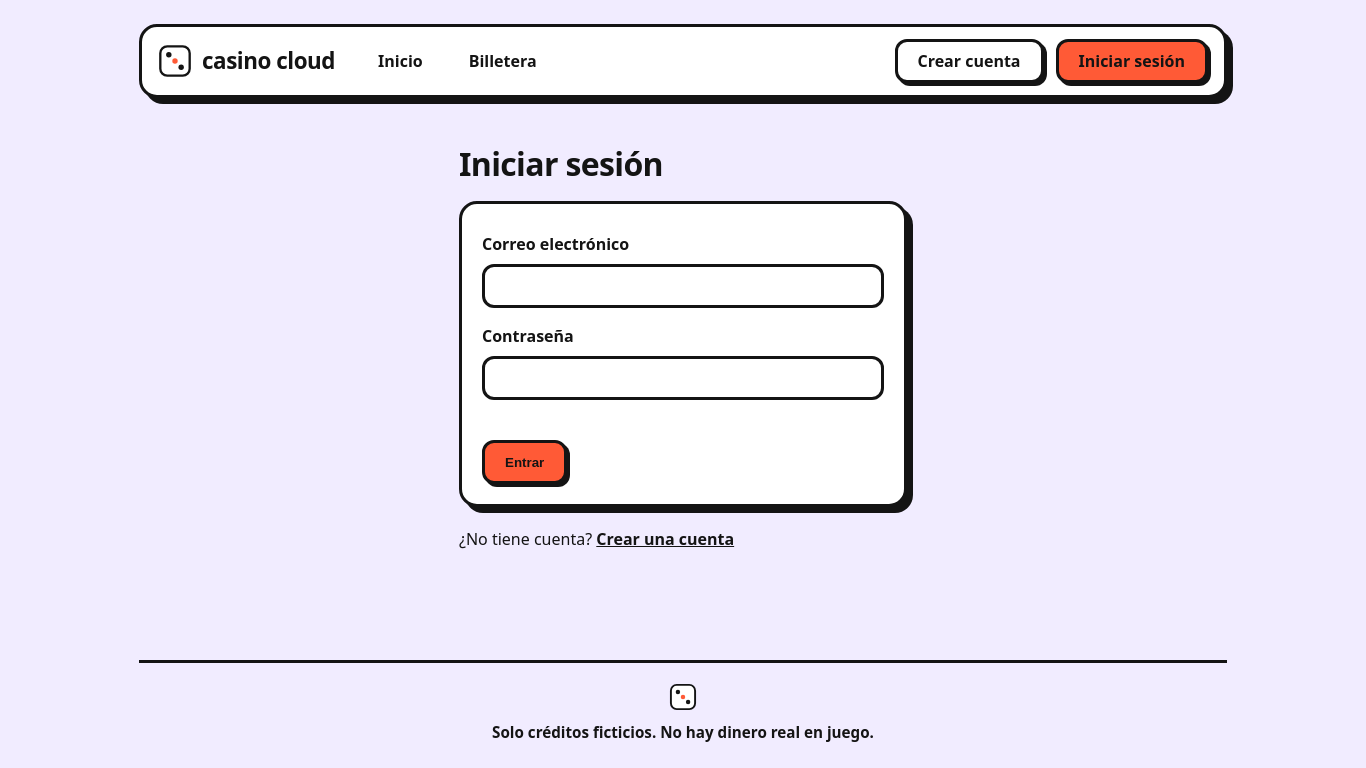
Test case: LoginPage › shows a connection message on a network failure
Type "ana@casino.test" into the field labelled "Correo electrónico" at (683,286), box [482,264,884,308]
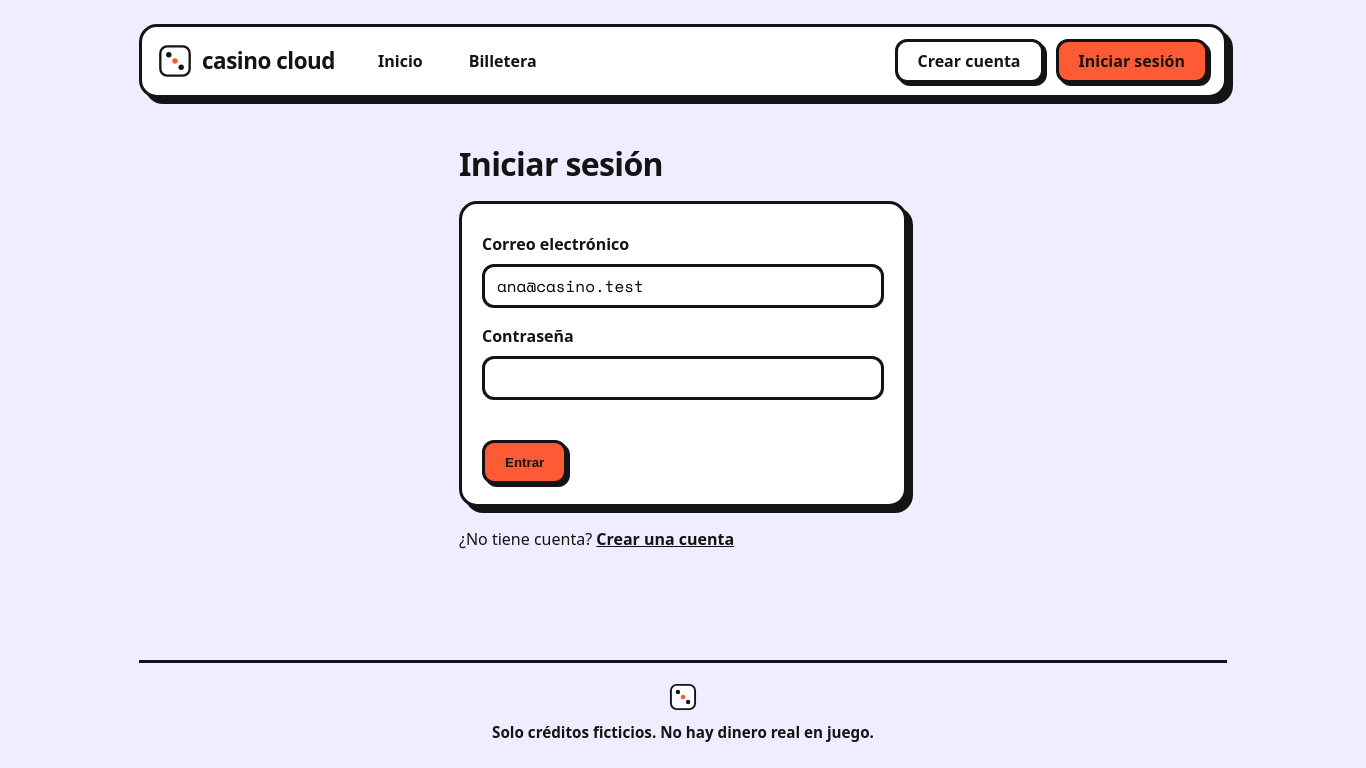
Type "password123" into the password field labelled "Contraseña" at (683,378), box [482,356,884,400]
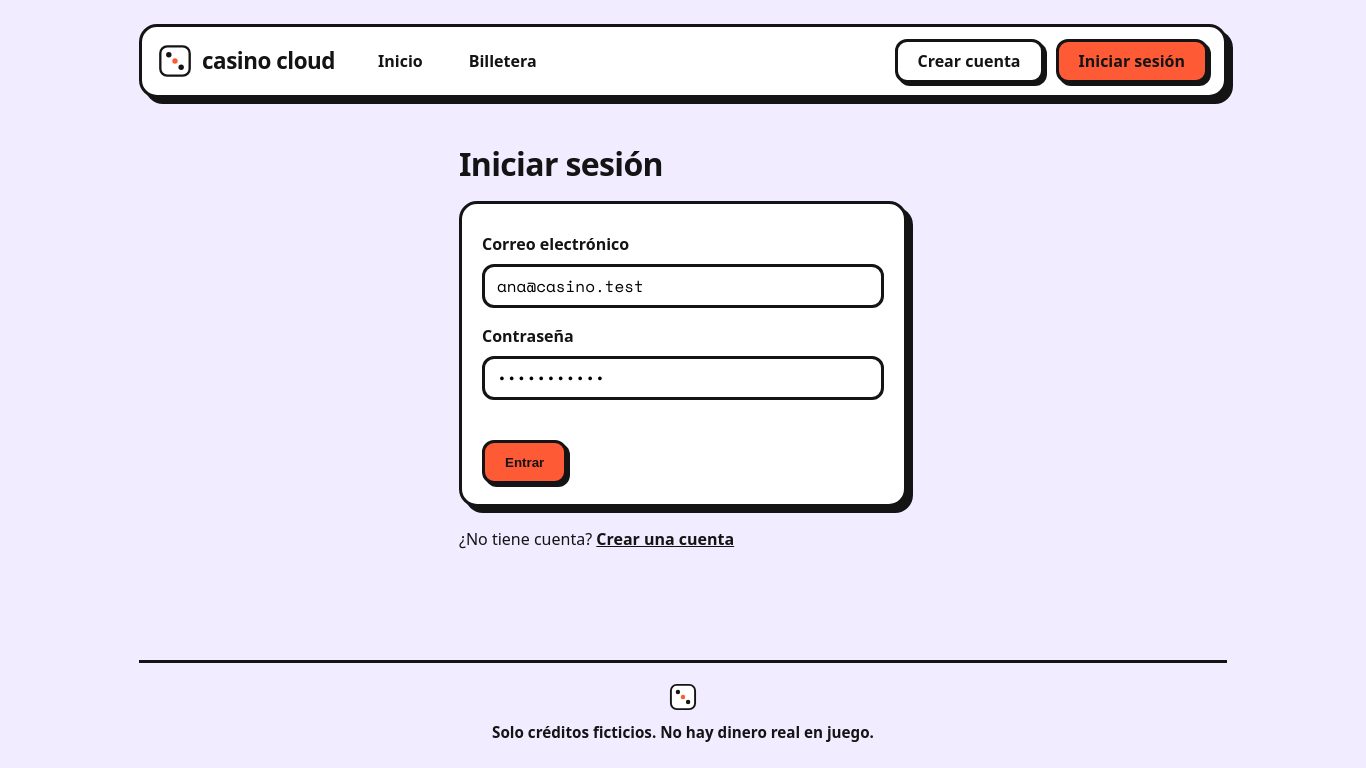
Click the button "Entrar" at (525,462), box [482,440,567,484]
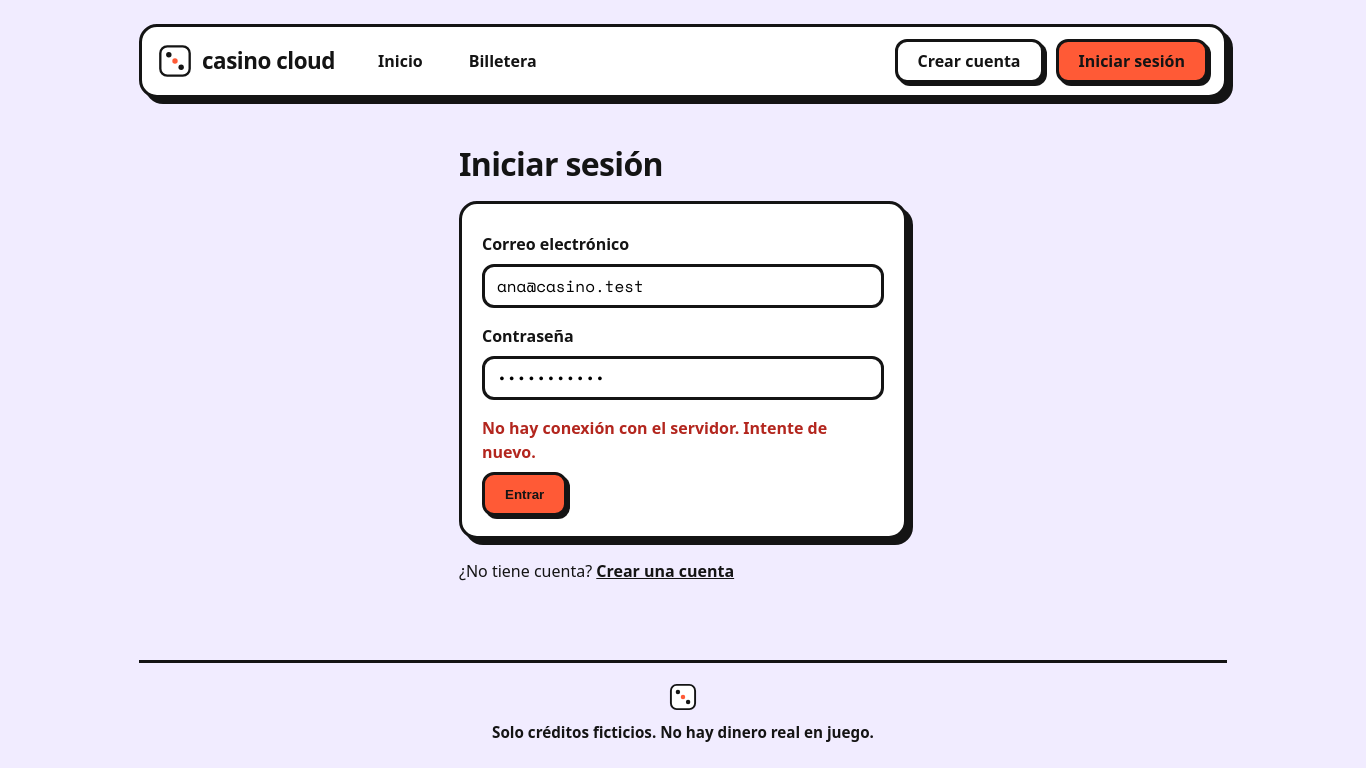
Now the text "No hay conexión con el servidor. Intente de nuevo." is shown, box [482,416,884,464]
